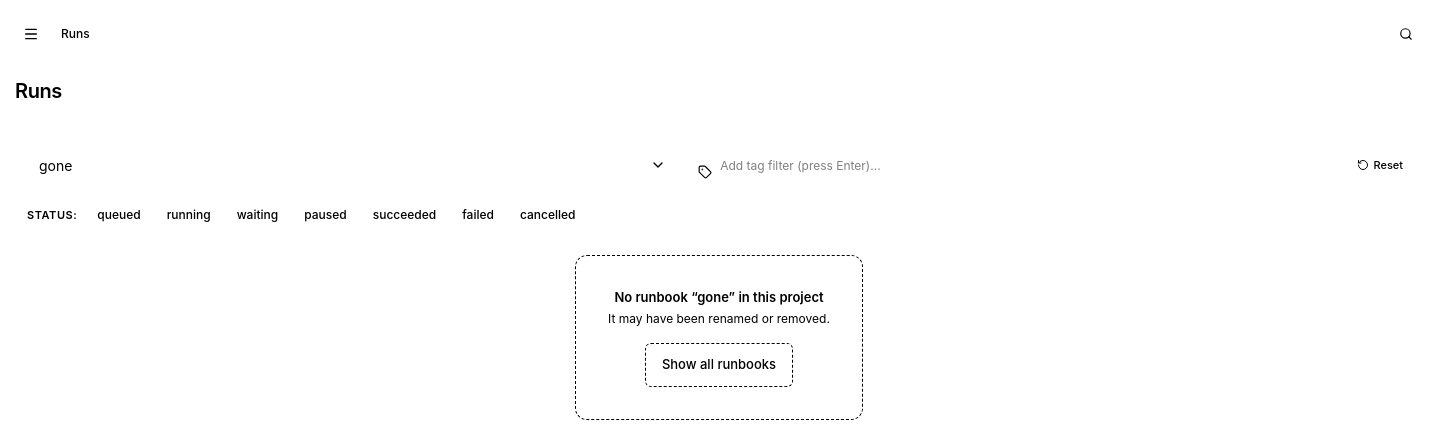
Test case: execution list runbook filter (U20) › reads an unknown runbook filter as no such runbook, not a load failure
Expected: the heading "No runbook “gone” in this project" is shown, [614,288,824,307]
Step 1. Click the button "Show all runbooks" → (719, 365), box [645,343,793,387]
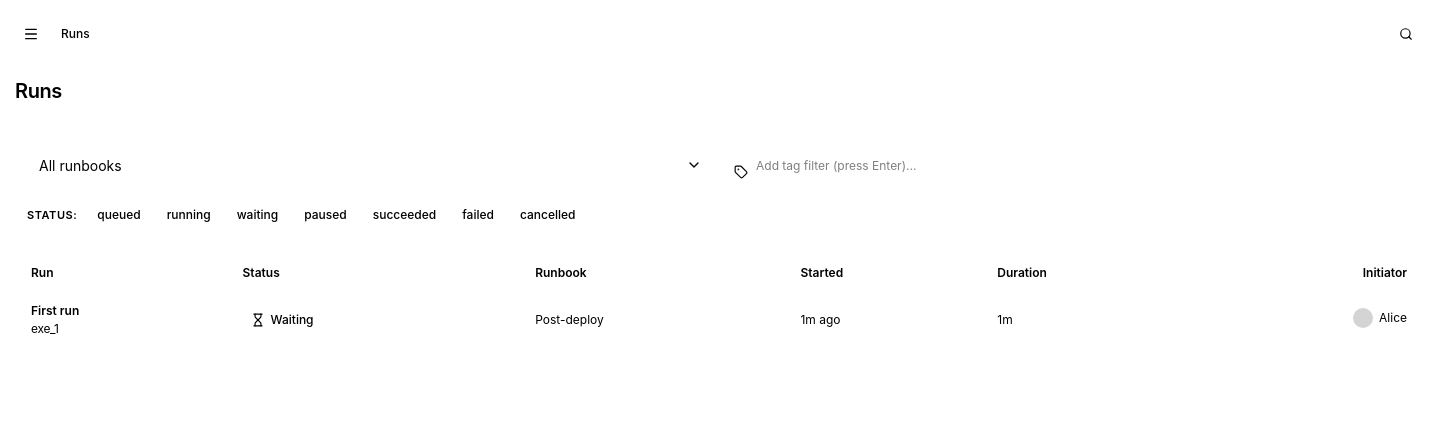
Expected: the button "First run" is shown, [31,303,211,319]
